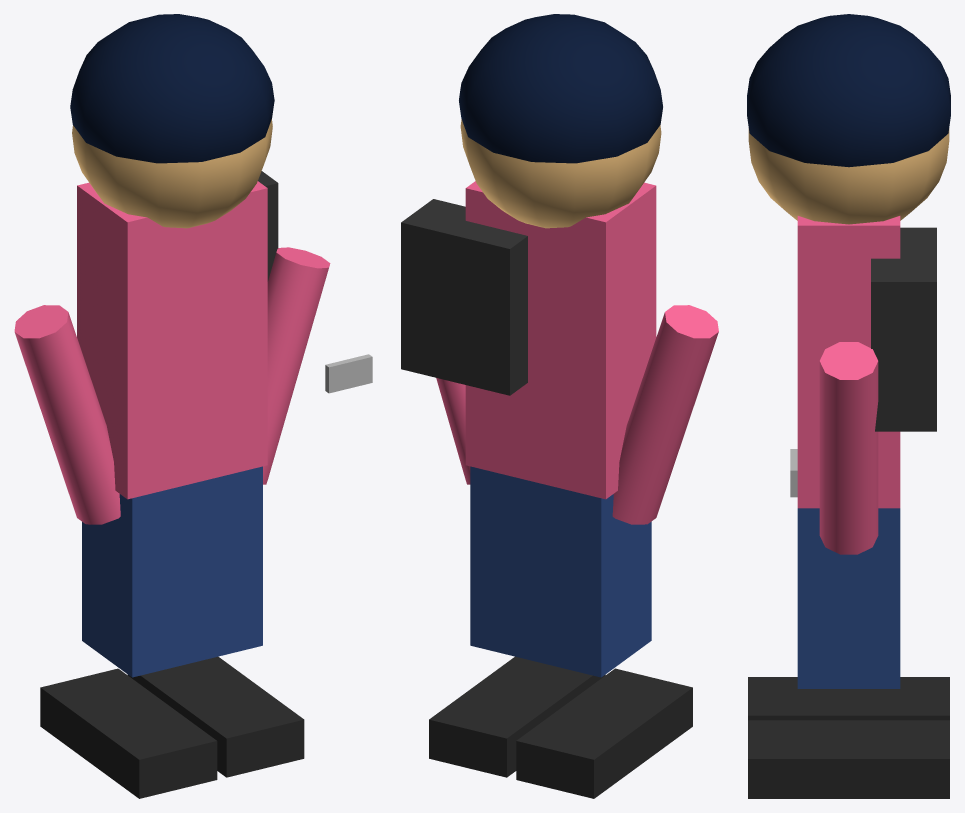
Rendered from pedestrian_2005_commuter.glb.
3 views of the same model, side by side, from view 1: azimuth 30°, elevation 25°; view 2: azimuth 150°, elevation 25°; view 3: azimuth 270°, elevation 25° (orthographic). The views are drawn at different scales.
Parts seen in each view (by area): view 1: pedestrian_2005_commuter; view 2: pedestrian_2005_commuter; view 3: pedestrian_2005_commuter.
Part boxes in pixels (left/top/right/bottom): pedestrian_2005_commuter: left=14, top=14, right=372, bottom=798; pedestrian_2005_commuter: left=401, top=14, right=718, bottom=798; pedestrian_2005_commuter: left=747, top=14, right=950, bottom=798.
Bounding box in the file's own units: 1.04 × 2.2 × 0.5557.
